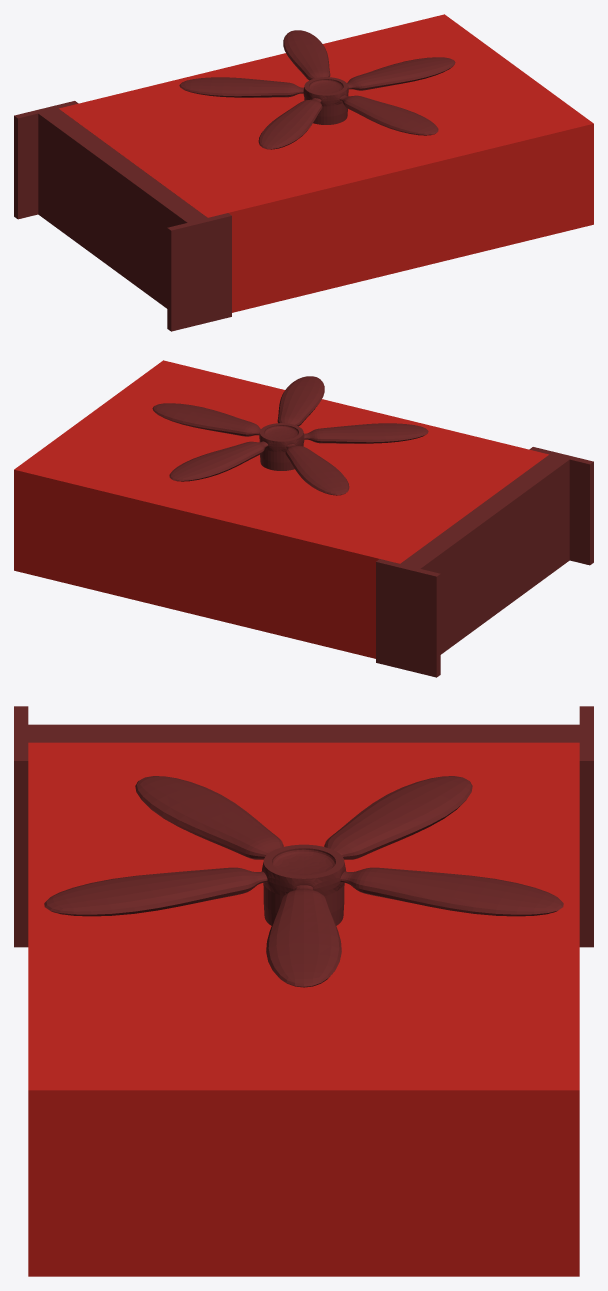
Rendered from fan-block.glb.
The picture shows the model from 3 angles, top to bottom: view 1: azimuth 30°, elevation 25°; view 2: azimuth 150°, elevation 25°; view 3: azimuth 270°, elevation 25°; orthographic projection. The views are drawn at different scales.
Visible parts, largest first — view 1: Cube, Cube.001, fan; view 2: Cube, Cube.001, fan; view 3: Cube, fan, Cube.001.
Part boxes in pixels (left/top/right/bottom): Cube: left=59, top=14, right=593, bottom=312; Cube.001: left=14, top=101, right=231, bottom=331; fan: left=179, top=30, right=455, bottom=149; Cube: left=14, top=360, right=548, bottom=658; Cube.001: left=376, top=447, right=593, bottom=677; fan: left=152, top=376, right=428, bottom=495; Cube: left=28, top=742, right=579, bottom=1276; fan: left=44, top=776, right=563, bottom=987; Cube.001: left=14, top=706, right=593, bottom=947.
Bounding box in the file's own units: 0.21 × 0.0615 × 0.134.
